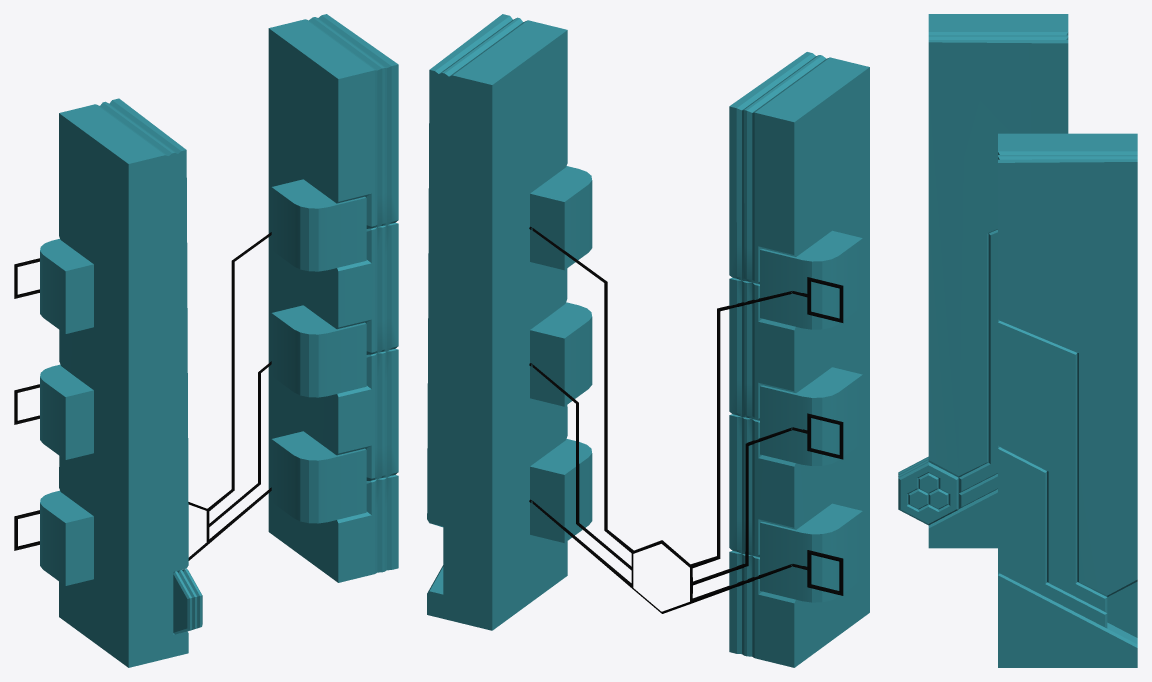
File: _TEMPLE DOOR.fbx
The picture shows the model from 3 angles, left to right: view 1: azimuth 30°, elevation 25°; view 2: azimuth 150°, elevation 25°; view 3: azimuth 270°, elevation 25°; orthographic projection. The views are drawn at different scales.
Parts seen in each view (by area): view 1: door (×2), hinge block (×6), door side glow trace, door seal whole; view 2: door (×2), hinge block (×6), door side glow trace; view 3: door (×2), door seal whole.
Part boxes in pixels (bbox=[...]): door (×2): bbox=[59, 14, 398, 667]; hinge block (×6): bbox=[40, 179, 366, 585]; door side glow trace: bbox=[14, 232, 271, 560]; door seal whole: bbox=[173, 569, 202, 634]; door (×2): bbox=[427, 14, 869, 667]; hinge block (×6): bbox=[530, 166, 862, 602]; door side glow trace: bbox=[529, 226, 843, 613]; door (×2): bbox=[928, 14, 1137, 667]; door seal whole: bbox=[898, 456, 958, 525].
Bounding box in the file's own units: 11.61 × 16 × 6.87.
